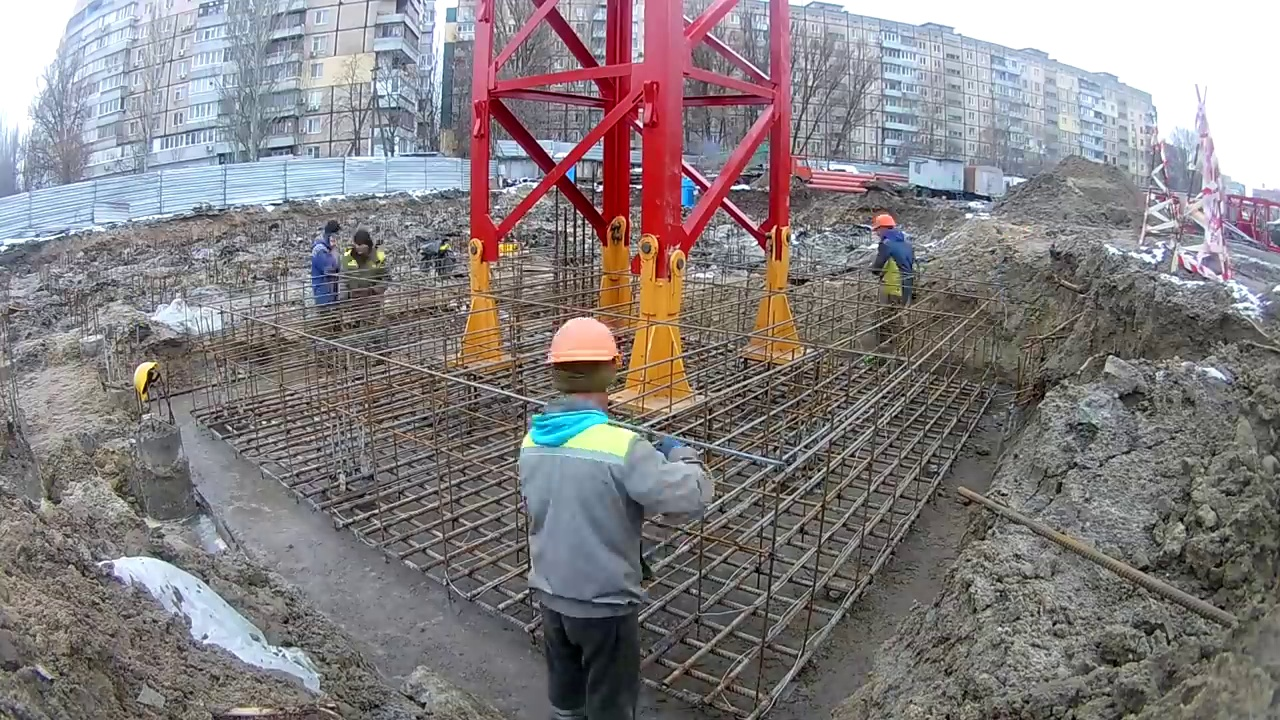helmet: (543, 319, 620, 367), (133, 359, 160, 406), (874, 215, 896, 231)
helmet-off: (353, 231, 375, 266), (321, 222, 344, 242)
helmet-on: (541, 322, 619, 418), (873, 214, 898, 239)
person: (516, 320, 713, 720), (872, 213, 919, 303), (310, 219, 350, 313), (340, 227, 391, 297)
